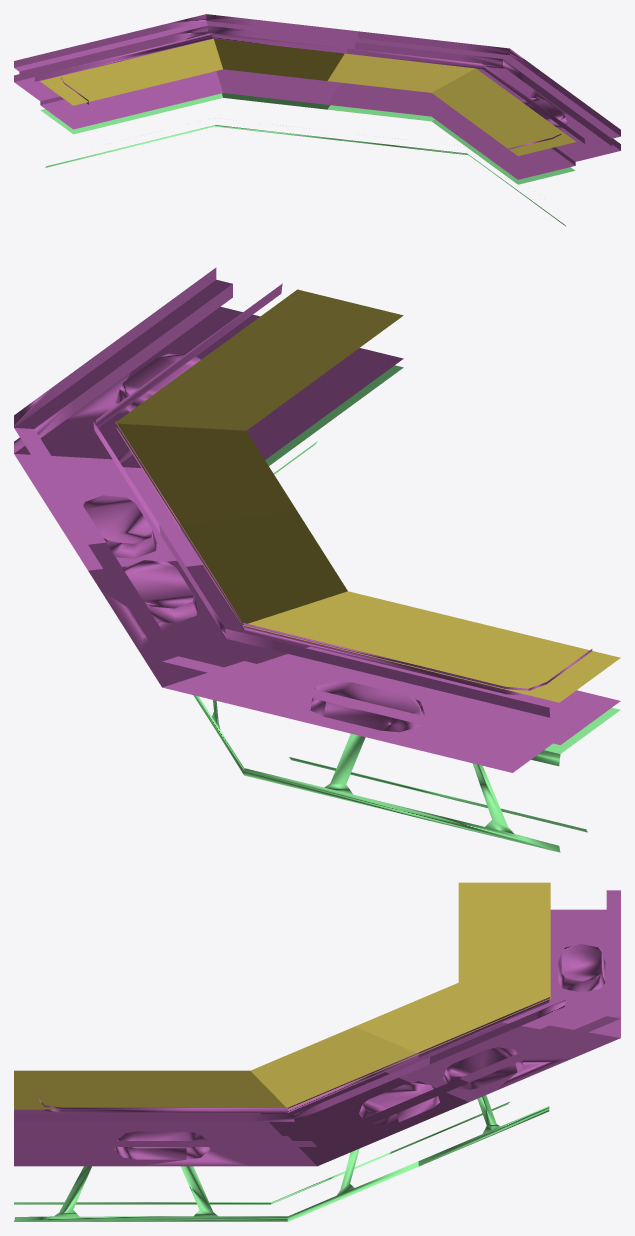
The model's file is large_plating_trim_a_cornerout45_08x01x02_c_lod1.glb.
3 renders of one model, top to bottom at view 1: azimuth 30°, elevation 25°; view 2: azimuth 150°, elevation 25°; view 3: azimuth 270°, elevation 25°, orthographic. The views are drawn at different scales.
Bounding box in the file's own units: 8 × 1.67 × 8.
